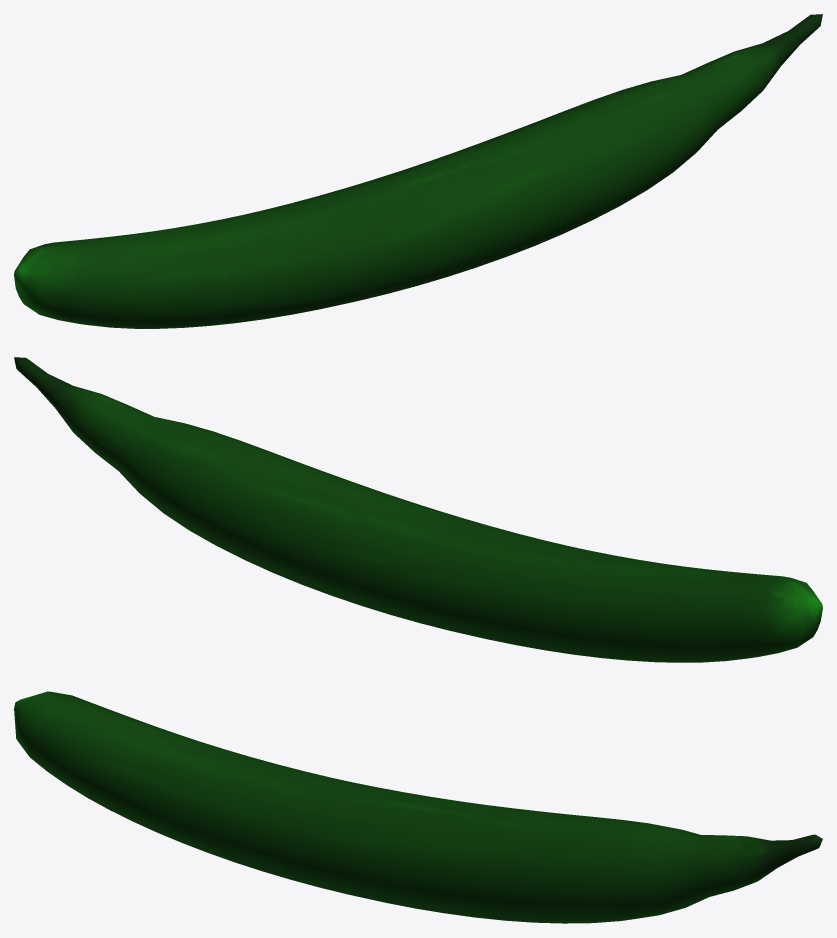
File: M_Cucumber.fbx
3 renders of one model, top to bottom at view 1: azimuth 30°, elevation 25°; view 2: azimuth 150°, elevation 25°; view 3: azimuth 330°, elevation 25°, orthographic.
Parts seen in each view (by area): view 1: Cucumber; view 2: Cucumber; view 3: Cucumber.
Boxes of the visible parts, x1=… form: Cucumber: x1=14, y1=14, x2=822, y2=328; Cucumber: x1=14, y1=357, x2=822, y2=662; Cucumber: x1=14, y1=691, x2=822, y2=923.
Bounding box in the file's own units: 30.68 × 6.07 × 3.93.
